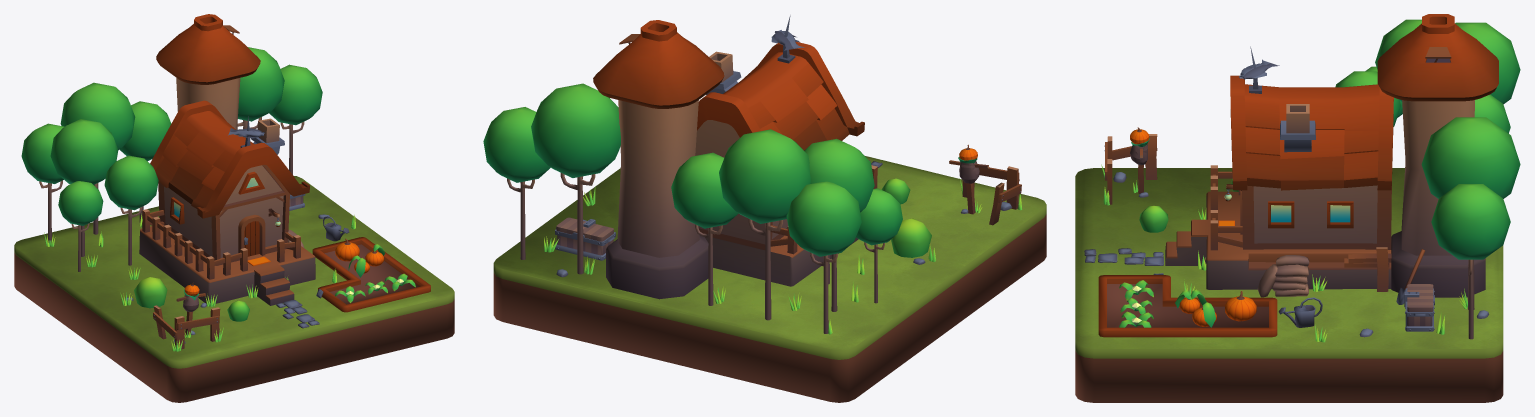
Rendered from house.glb.
The picture shows the model from 3 angles, left to right: view 1: azimuth 30°, elevation 25°; view 2: azimuth 150°, elevation 25°; view 3: azimuth 270°, elevation 25°; orthographic projection. The views are drawn at different scales.
Parts seen in each view (by area): view 1: Plane.005, House, Cube.002, Cube.000, Cube, Cylinder, Cylinder.004, Cylinder.002, Cube.004, Cylinder.008, Cylinder.007, Cylinder.006 (+5 smaller); view 2: Plane.005, Cube.002, House, Cylinder.007, Cylinder.004, Cylinder.006, Cylinder.008, Cylinder.005, Cylinder, Cube.000, Cylinder.001, Cube.022 (+5 smaller); view 3: Plane.005, House, Cube.002, Cube.000, Cube, Cylinder.007, Cylinder.008, Cylinder.004, Cube.004, Cube.022, Cylinder.005, Cube.005 (+11 smaller).
Boxes of the visible parts, bbox=[...] form: Plane.005: bbox=[14, 175, 454, 402]; House: bbox=[150, 100, 309, 265]; Cube.002: bbox=[156, 14, 260, 129]; Cube.000: bbox=[139, 226, 315, 305]; Cube: bbox=[312, 237, 430, 312]; Cylinder: bbox=[50, 119, 118, 256]; Cylinder.004: bbox=[60, 82, 135, 234]; Cylinder.002: bbox=[104, 155, 158, 265]; Cube.004: bbox=[142, 209, 300, 279]; Cylinder.008: bbox=[269, 64, 322, 174]; Cylinder.007: bbox=[237, 47, 284, 137]; Cylinder.006: bbox=[21, 123, 64, 243]; Plane.005: bbox=[493, 156, 1046, 402]; Cube.002: bbox=[593, 20, 724, 299]; House: bbox=[695, 15, 864, 250]; Cylinder.007: bbox=[531, 83, 620, 274]; Cylinder.004: bbox=[719, 129, 810, 320]; Cylinder.006: bbox=[786, 181, 861, 333]; Cylinder.008: bbox=[483, 107, 550, 259]; Cylinder.005: bbox=[671, 152, 738, 305]; Cylinder: bbox=[804, 138, 874, 311]; Cube.000: bbox=[705, 235, 858, 286]; Cylinder.001: bbox=[856, 188, 902, 303]; Cube.022: bbox=[962, 166, 1021, 225]; Plane.005: bbox=[1075, 168, 1503, 402]; House: bbox=[1230, 46, 1393, 249]; Cube.002: bbox=[1377, 14, 1498, 297]; Cube.000: bbox=[1165, 191, 1391, 289]; Cube: bbox=[1098, 275, 1277, 337]; Cylinder.007: bbox=[1421, 117, 1520, 309]; Cylinder.008: bbox=[1431, 184, 1510, 339]; Cylinder.004: bbox=[1455, 22, 1520, 104]; Cube.004: bbox=[1210, 165, 1242, 250]; Cube.022: bbox=[1104, 134, 1157, 204]; Cylinder.005: bbox=[1474, 94, 1510, 133]; Cube.005: bbox=[1404, 284, 1434, 311].
Size of the model in its own units: 207 by 161 by 208.
3 materials, 3 textured.
